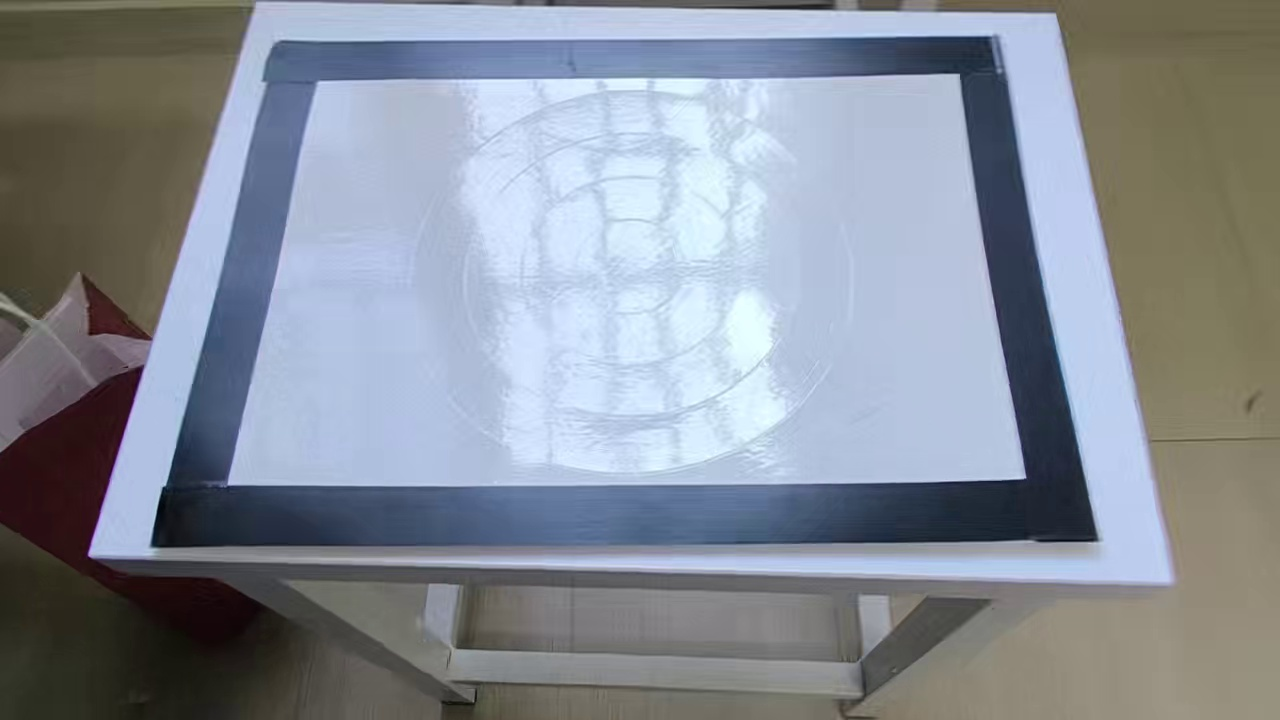board: (150, 34, 1099, 542)
